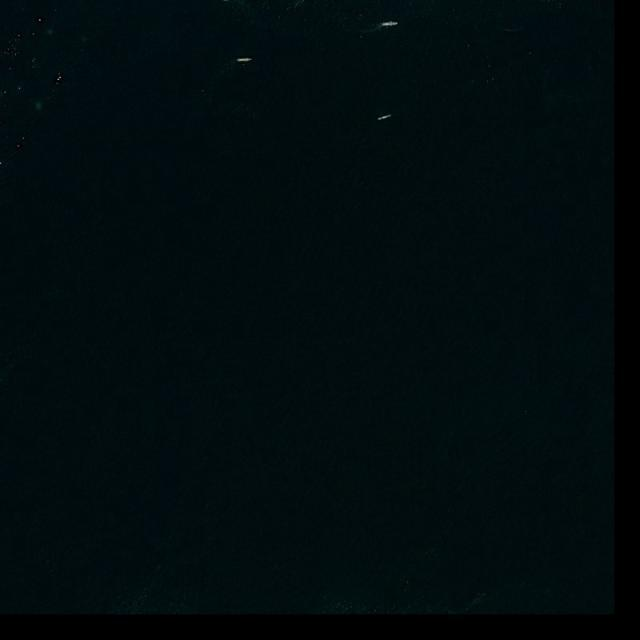ship: (382, 20, 398, 28), (378, 114, 391, 121), (237, 58, 253, 62)
